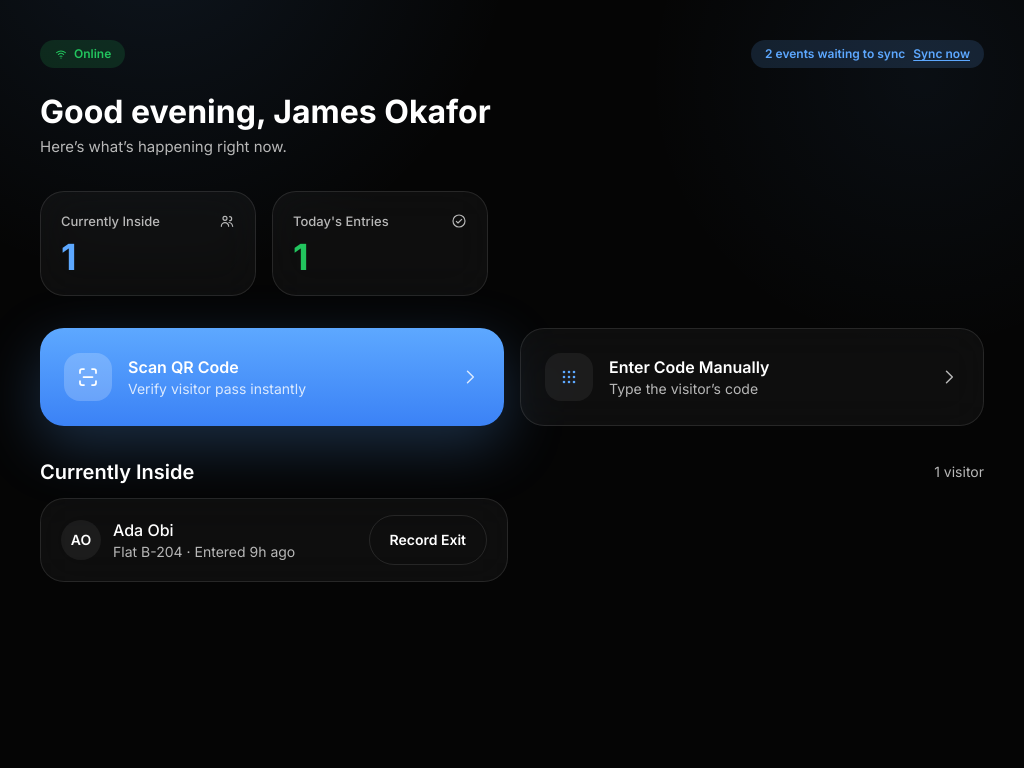
Test: SecurityGatePage › shows a manual sync control when events are pending and online, and flushes the queue on demand
Expected: the text "Today's Entries" is shown, left=293, top=212, right=389, bottom=231
Expected: the text "2 events waiting to sync Sync now" is shown, left=751, top=40, right=984, bottom=68
Click the button "Sync now": (942, 54) left=913, top=46, right=970, bottom=62
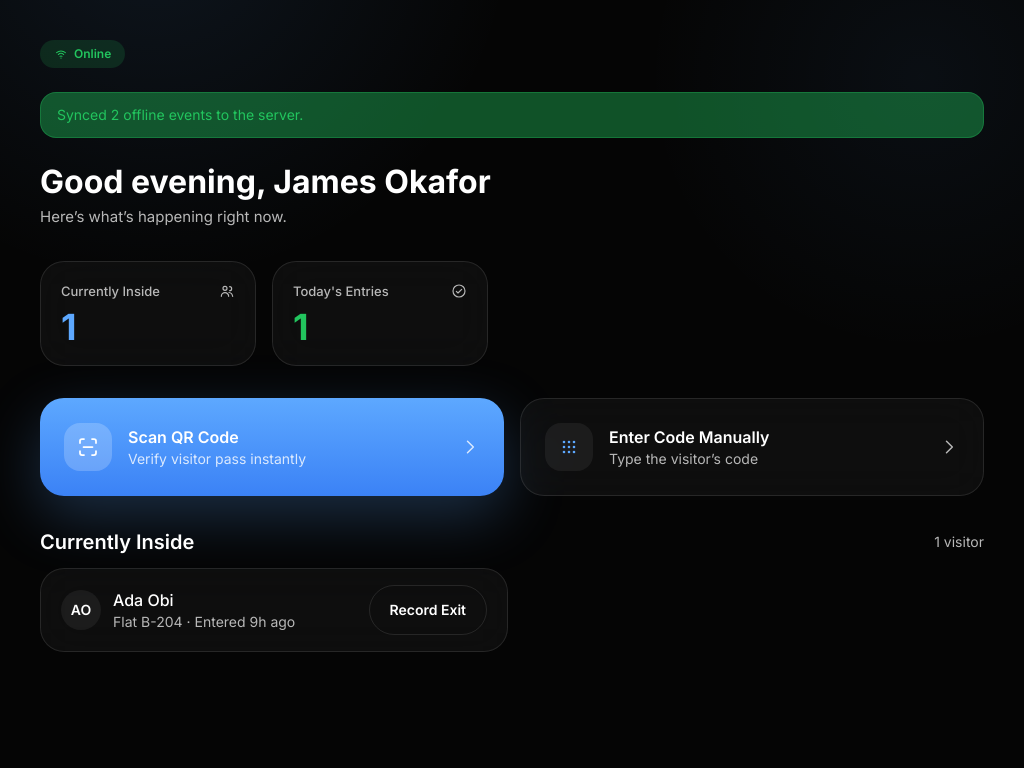
Expected: the text "Synced 2 offline events to the server." is shown, left=40, top=92, right=984, bottom=138
